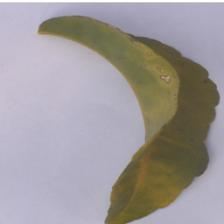greening: (112, 147, 186, 215)
